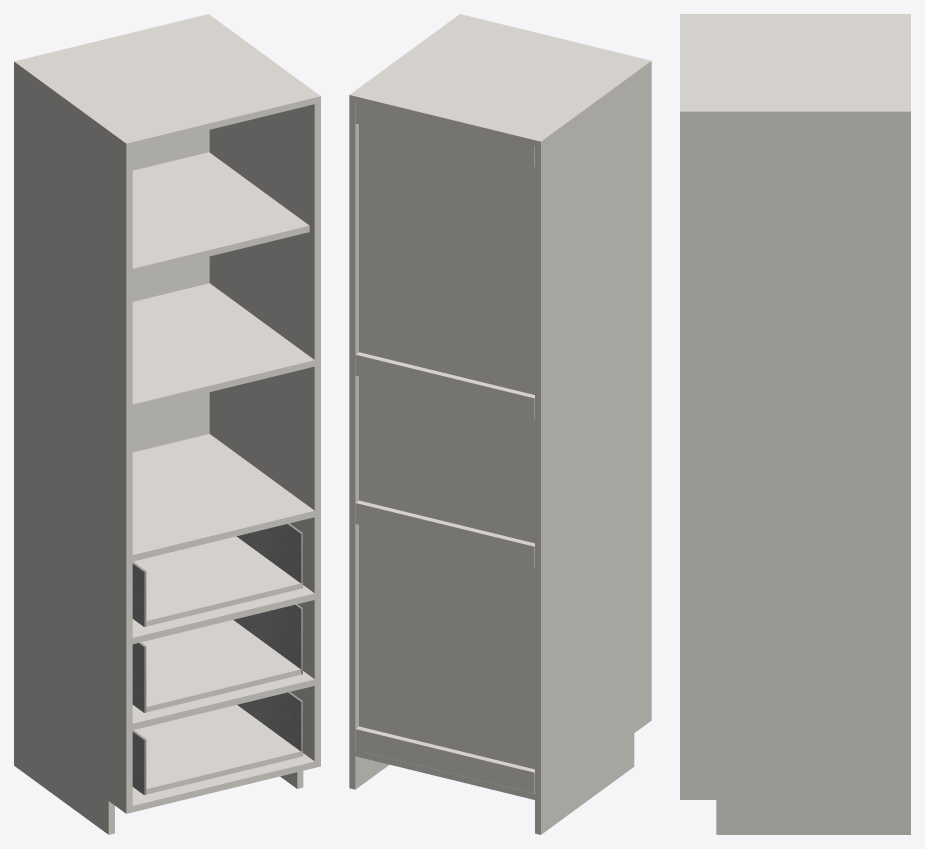
File: Tall Microwave-3 Drawer-ND.glb
3 renders of one model, left to right at view 1: azimuth 30°, elevation 25°; view 2: azimuth 150°, elevation 25°; view 3: azimuth 270°, elevation 25°, orthographic. The views are drawn at different scales.
Parts seen in each view (by area): view 1: Geom3D_UEnd (L)-A (×2), Geom3D_UEnd (R)-G (×2), Geom3D_Fixed Shelf-I.F (×4), Geom3D_Drw Bottom (×3), Geom3D_Top-D (×2), Geom3D_Adjustable Shelf-I (×2), Geom3D_UBack-C, Geom3D_Drw R Side (×3), Geom3D_Drw Stretcher-F (×4), Geom3D_Bottom-B (×2), Geom3D_Drw L Side (×3); view 2: Geom3D_UBack-C, Geom3D_UEnd (L)-A, Geom3D_Top-D, Geom3D_Nailer-H (×4), Geom3D_UEnd (R)-G, Geom3D_Bottom-B; view 3: Geom3D_UEnd (R)-G, Geom3D_Top-D, Geom3D_UEnd (L)-A.
Boxes of the visible parts, x1,y1,x2,y2 form: Geom3D_UEnd (L)-A (×2): (14,60,132,834); Geom3D_UEnd (R)-G (×2): (202,14,320,788); Geom3D_Fixed Shelf-I.F (×4): (132,283,314,561); Geom3D_Drw Bottom (×3): (132,536,302,794); Geom3D_Top-D (×2): (20,15,314,148); Geom3D_Adjustable Shelf-I (×2): (132,152,309,274); Geom3D_UBack-C: (132,130,209,452); Geom3D_Drw R Side (×3): (233,523,302,755); Geom3D_Drw Stretcher-F (×4): (132,585,314,729); Geom3D_Bottom-B (×2): (132,753,314,812); Geom3D_Drw L Side (×3): (132,562,146,794); Geom3D_UBack-C: (359,124,534,769); Geom3D_UEnd (L)-A: (535,59,651,834); Geom3D_Top-D: (355,15,644,146); Geom3D_Nailer-H (×4): (355,103,534,793); Geom3D_UEnd (R)-G: (349,14,465,789); Geom3D_Bottom-B: (352,749,537,799); Geom3D_UEnd (R)-G: (680,108,910,834); Geom3D_Top-D: (680,17,910,108); Geom3D_UEnd (L)-A: (680,14,910,16).
Bounding box in the file's own units: 0.6096 × 2.11 × 0.6097.
2 materials, 2 textured.
